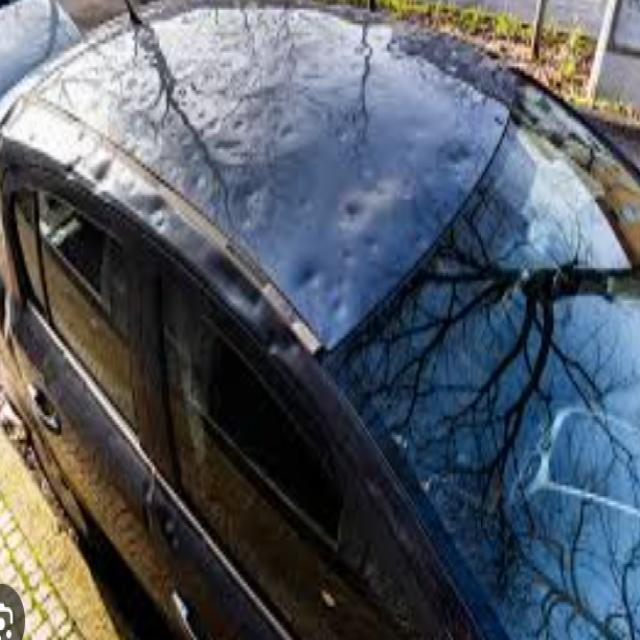Dent: (40, 4, 508, 345), (514, 407, 639, 519)
